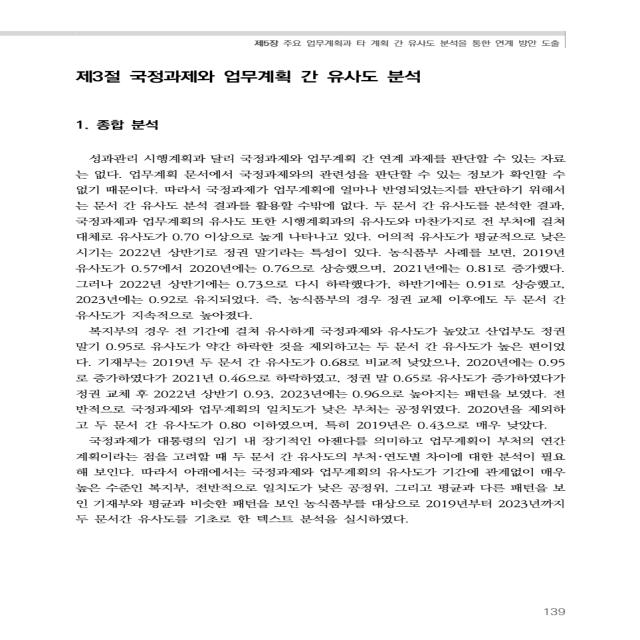pagenumber: (536, 606, 574, 621)
subtitle: (74, 120, 168, 134)
text: (66, 152, 574, 528), (251, 40, 562, 49)
title: (70, 68, 428, 90)
